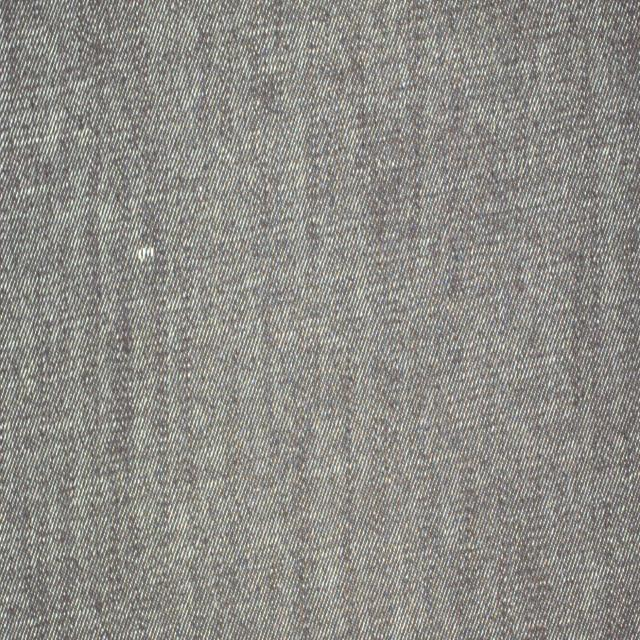Knot: (135, 243, 156, 264)
